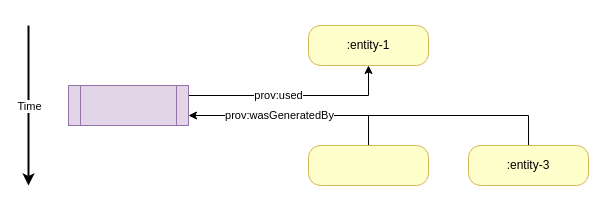
Image size: 606x211. Some labels were removed from this diagram. Here are the shapes that lost their labels. From the top down, the box of each, then its label:
(68, 84, 188, 126): :activity-1
(308, 144, 428, 186): :entity-2
